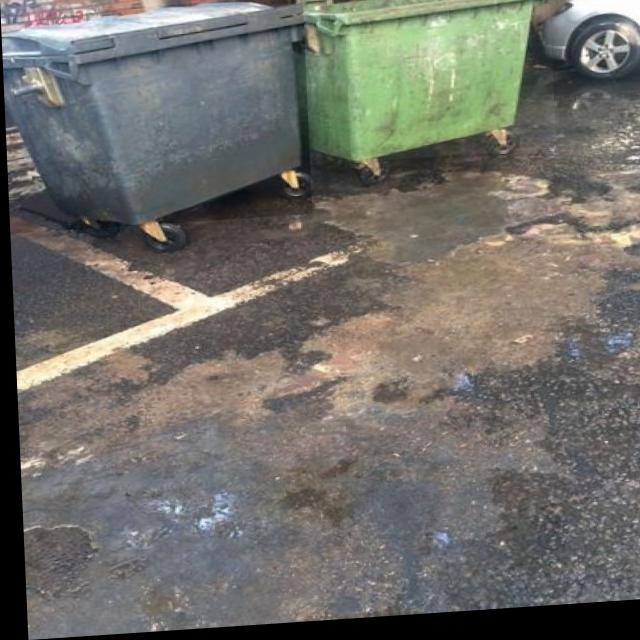garbage_bin: (1, 0, 310, 234), (289, 0, 554, 170)
